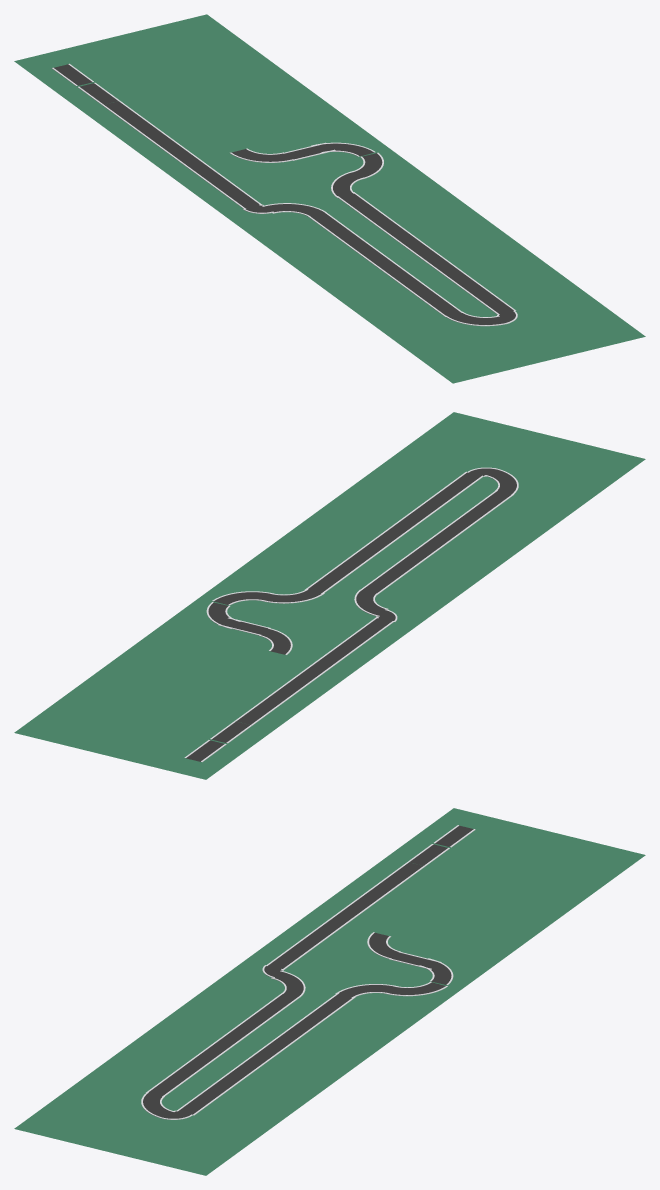
File: road7new.obj
3 renders of one model, top to bottom at view 1: azimuth 30°, elevation 25°; view 2: azimuth 150°, elevation 25°; view 3: azimuth 330°, elevation 25°, orthographic.
Parts seen in each view (by area): view 1: grass.000, roadCornerLarge.034_roadCornerLarge.036, roadCornerLarge.036_roadCornerLarge.038, roadCornerLarge.035_roadCornerLarge.037, roadCornerLarge.038_roadCornerLarge.040, roadCornerLarge.039_roadCornerLarge.042, roadCornerLarge.037_roadCornerLarge.039, roadStraightLong.137, roadStraightLong.135, roadStraightLong.150, roadStraightLong.151, roadStraightLong.132 (+2 smaller); view 2: grass.000, roadCornerLarge.035_roadCornerLarge.037, roadCornerLarge.037_roadCornerLarge.039, roadCornerLarge.034_roadCornerLarge.036, roadCornerLarge.036_roadCornerLarge.038, roadCornerLarge.039_roadCornerLarge.042, roadCornerLarge.038_roadCornerLarge.040, roadStraightLong.150, roadStraightLong.135, roadStraightLong.137, roadStraightLong.133, roadStraightLong.151 (+2 smaller); view 3: grass.000, roadCornerLarge.036_roadCornerLarge.038, roadCornerLarge.034_roadCornerLarge.036, roadCornerLarge.035_roadCornerLarge.037, roadCornerLarge.038_roadCornerLarge.040, roadCornerLarge.039_roadCornerLarge.042, roadCornerLarge.037_roadCornerLarge.039, roadStraightLong.150, roadStraightLong.135, roadStraightLong.134, roadStraightLong.151, roadStraightLong.137 (+3 smaller).
Boxes of the visible parts, x1,y1,x2,y2 form: grass.000: (14, 14, 645, 383); roadCornerLarge.034_roadCornerLarge.036: (228, 148, 293, 163); roadCornerLarge.036_roadCornerLarge.038: (350, 152, 385, 180); roadCornerLarge.035_roadCornerLarge.037: (310, 142, 376, 157); roadCornerLarge.038_roadCornerLarge.040: (445, 311, 510, 326); roadCornerLarge.039_roadCornerLarge.042: (262, 202, 328, 216); roadCornerLarge.037_roadCornerLarge.039: (329, 170, 364, 198); roadStraightLong.137: (473, 292, 517, 315); roadStraightLong.135: (448, 275, 492, 297); roadStraightLong.150: (76, 82, 121, 105); roadStraightLong.151: (50, 63, 95, 86); roadStraightLong.132: (383, 227, 426, 250); grass.000: (14, 412, 645, 779); roadCornerLarge.035_roadCornerLarge.037: (204, 602, 240, 629); roadCornerLarge.037_roadCornerLarge.039: (260, 589, 325, 604); roadCornerLarge.034_roadCornerLarge.036: (258, 628, 294, 655); roadCornerLarge.036_roadCornerLarge.038: (210, 591, 277, 605); roadCornerLarge.039_roadCornerLarge.042: (352, 590, 389, 616); roadCornerLarge.038_roadCornerLarge.040: (485, 468, 519, 495); roadStraightLong.150: (208, 721, 253, 743); roadStraightLong.135: (415, 489, 460, 512); roadStraightLong.137: (440, 471, 484, 494); roadStraightLong.133: (327, 554, 372, 577); roadStraightLong.151: (183, 740, 227, 762); grass.000: (14, 808, 645, 1175); roadCornerLarge.036_roadCornerLarge.038: (382, 982, 449, 996); roadCornerLarge.034_roadCornerLarge.036: (365, 932, 401, 960); roadCornerLarge.035_roadCornerLarge.037: (419, 958, 455, 985); roadCornerLarge.038_roadCornerLarge.040: (140, 1092, 174, 1119); roadCornerLarge.039_roadCornerLarge.042: (270, 970, 307, 998); roadCornerLarge.037_roadCornerLarge.039: (334, 983, 399, 998); roadStraightLong.150: (406, 844, 451, 866); roadStraightLong.135: (199, 1075, 242, 1098); roadStraightLong.134: (312, 993, 356, 1015); roadStraightLong.151: (432, 825, 476, 847); roadStraightLong.137: (176, 1093, 219, 1115).
Size of the model in its own units: 9.09 by 0.02 by 35.75.
